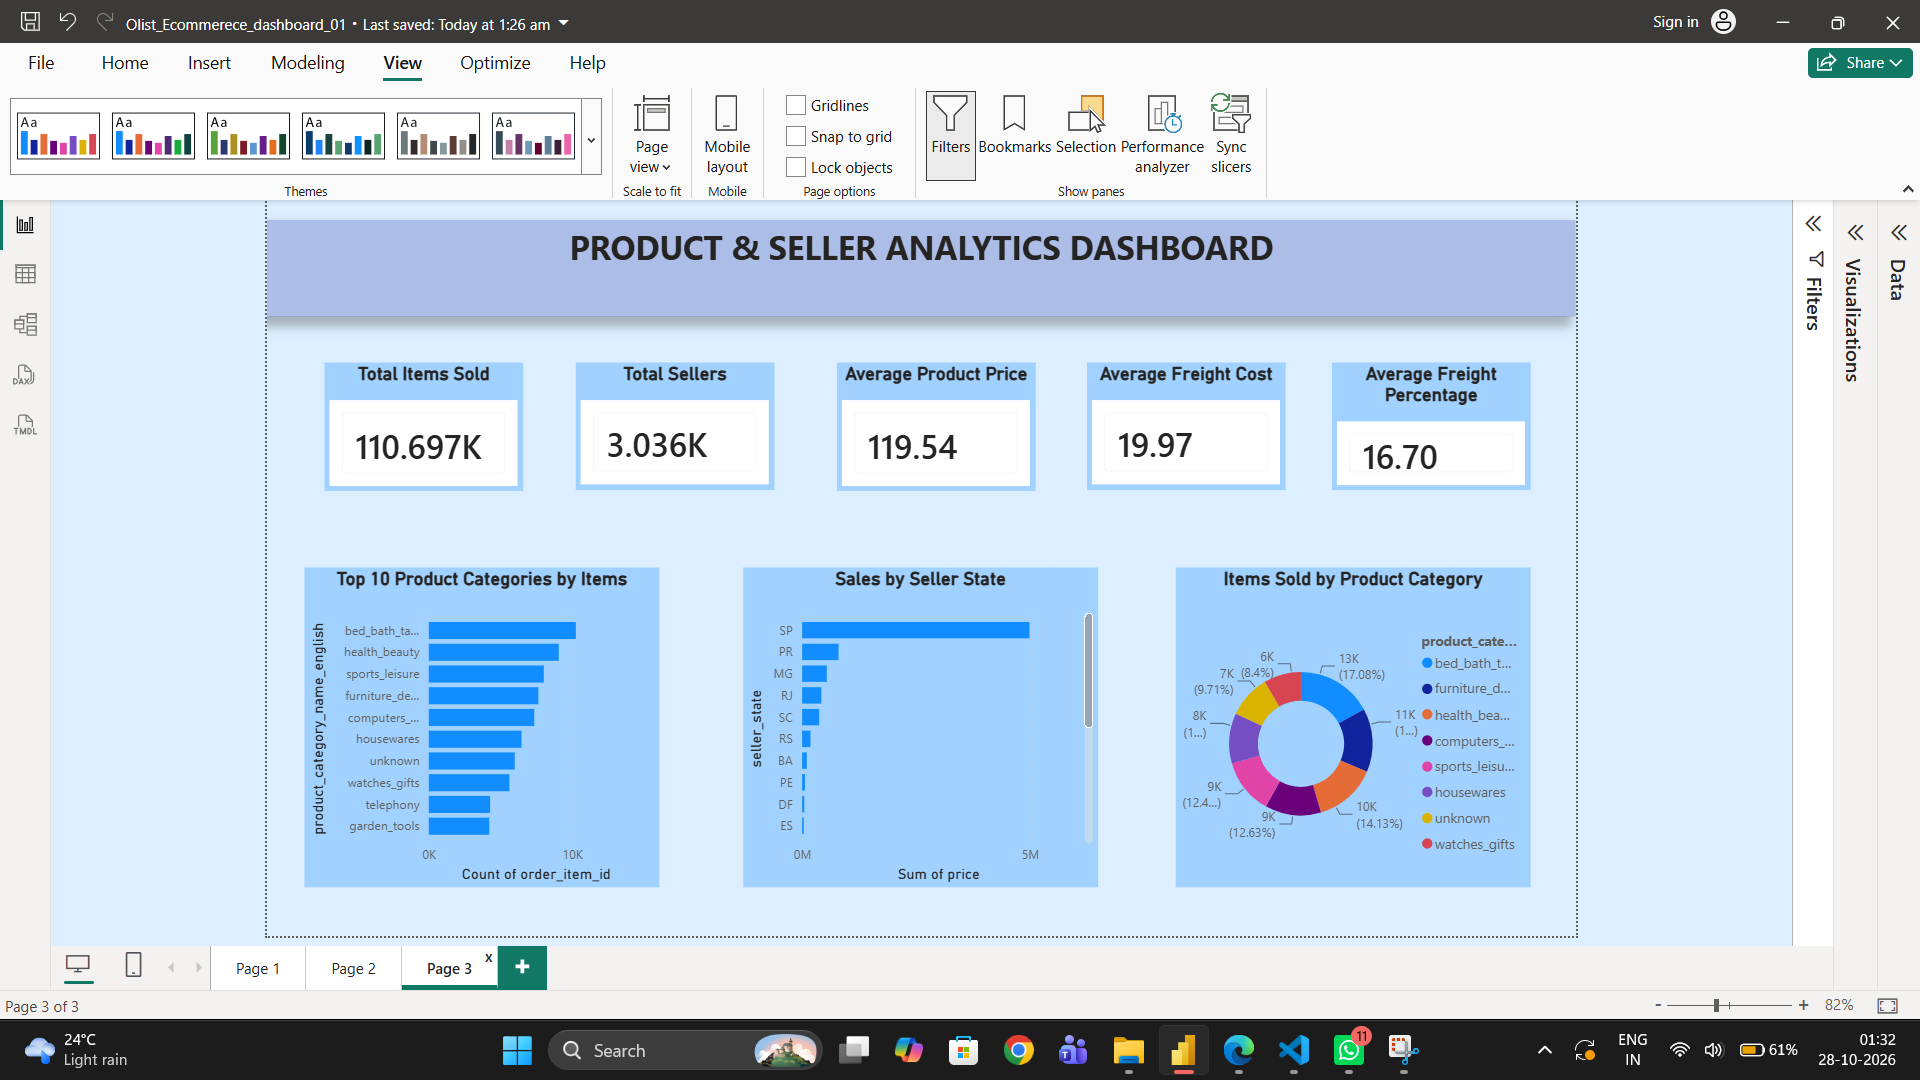

The dashboard page shown, as its layout file describes it:
{"tool":"powerbi","page":{"name":"Page 3","canvas":[1280,720],"ordinal":2},"visuals":[{"type":"cardVisual","title":"Total Items Sold","fields":{"Data":["CountNonNull(olist_master_dataset.order_item_id)"]},"box":[56.3,159,194.4,126],"z":0},{"type":"cardVisual","title":"Average Freight Percentage","fields":{"Data":["olist_master_dataset.Freight Percentage"]},"box":[1041.6,158.5,194.4,124.7],"z":1000},{"type":"cardVisual","title":"Total Sellers","fields":{"Data":["Count(olist_master_dataset.seller_id)"]},"box":[302,159,194.4,124.7],"z":2000},{"type":"cardVisual","title":"Average Freight Cost","fields":{"Data":["Avg(olist_master_dataset.freight_value)"]},"box":[802.2,159,194.4,124.7],"z":3000},{"type":"cardVisual","title":"Average Product Price","fields":{"Data":["Avg(olist_master_dataset.price)"]},"box":[557.6,159,194.4,126],"z":4000},{"type":"clusteredBarChart","title":"Top 10 Product Categories by Items","fields":{"Category":["olist_master_dataset.product_category_name_english"],"Y":["CountNonNull(olist_master_dataset.order_item_id)"]},"box":[36.7,359.5,347.3,313],"z":5000},{"type":"clusteredBarChart","title":"Sales by Seller State","fields":{"Category":["olist_master_dataset.seller_state"],"Y":["Sum(olist_master_dataset.price)"]},"box":[465.9,359.5,347.3,313],"z":6000},{"type":"donutChart","title":"Items Sold by Product Category","fields":{"Category":["olist_master_dataset.product_category_name_english"],"Y":["Sum(olist_master_dataset.order_item_id)"]},"box":[889,359.5,347.3,313],"z":7000},{"type":"textbox","box":[0,19.4,1280.3,94.2],"z":8000}]}

Visuals, with their boxes on the page's 1280x720 design canvas (x1, y1, x2, y2). These are canvas units, not pixel positions in the 1920x1080 screenshot, which may show the page scaled, cropped or inside an application window:
"Total Items Sold" cardVisual: rect(56, 159, 251, 285)
"Average Freight Percentage" cardVisual: rect(1042, 158, 1236, 283)
"Total Sellers" cardVisual: rect(302, 159, 496, 284)
"Average Freight Cost" cardVisual: rect(802, 159, 997, 284)
"Average Product Price" cardVisual: rect(558, 159, 752, 285)
"Top 10 Product Categories by Items" clusteredBarChart: rect(37, 360, 384, 672)
"Sales by Seller State" clusteredBarChart: rect(466, 360, 813, 672)
"Items Sold by Product Category" donutChart: rect(889, 360, 1236, 672)
textbox: rect(0, 19, 1280, 114)
